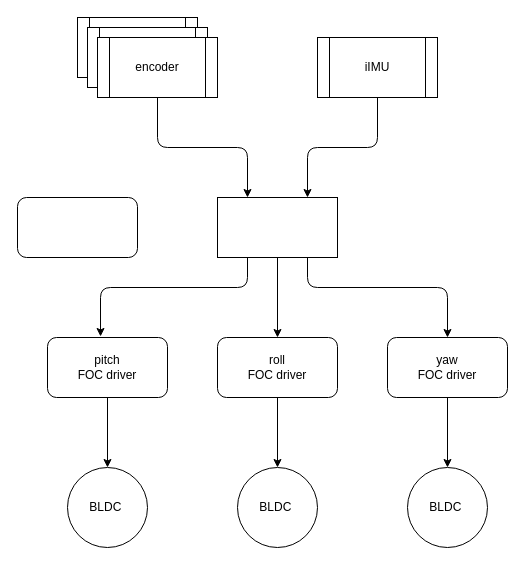
The diagram is 525 pixels wide and 565 high, and some of its shapes have lost their labels. Each missing label, with the centre of its shape:
ESP32: (277,227)
Voltage Regulator: (77,227)
